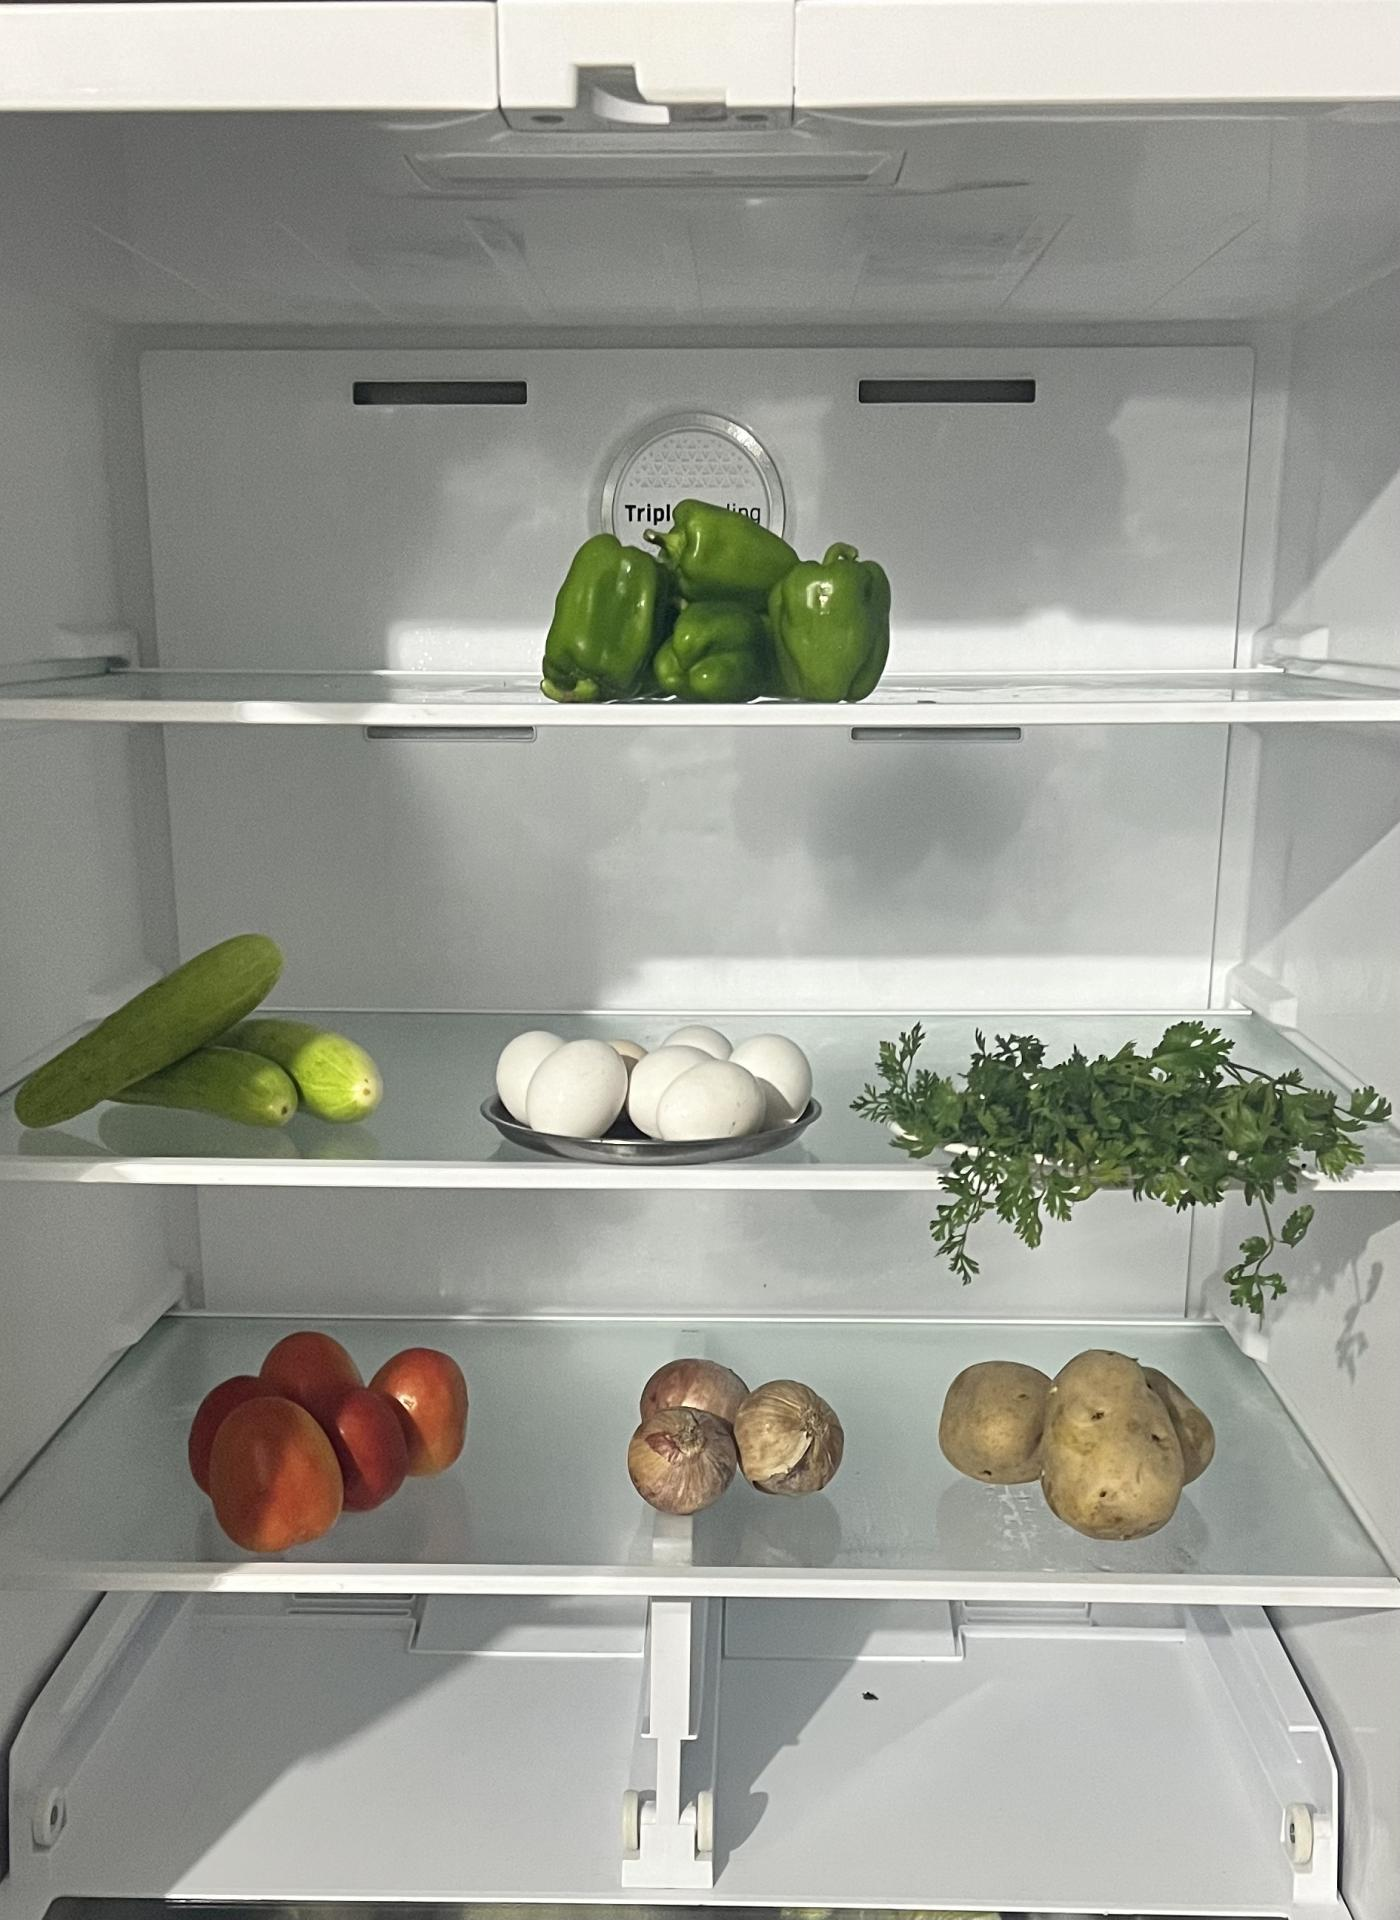capsicum: (547, 508, 899, 707)
coriander: (874, 1018, 1379, 1207)
cucumber: (13, 942, 288, 1117)
egg: (486, 1024, 819, 1146)
onion: (634, 1358, 850, 1513)
potato: (938, 1349, 1217, 1541)
tomato: (191, 1333, 474, 1552)
